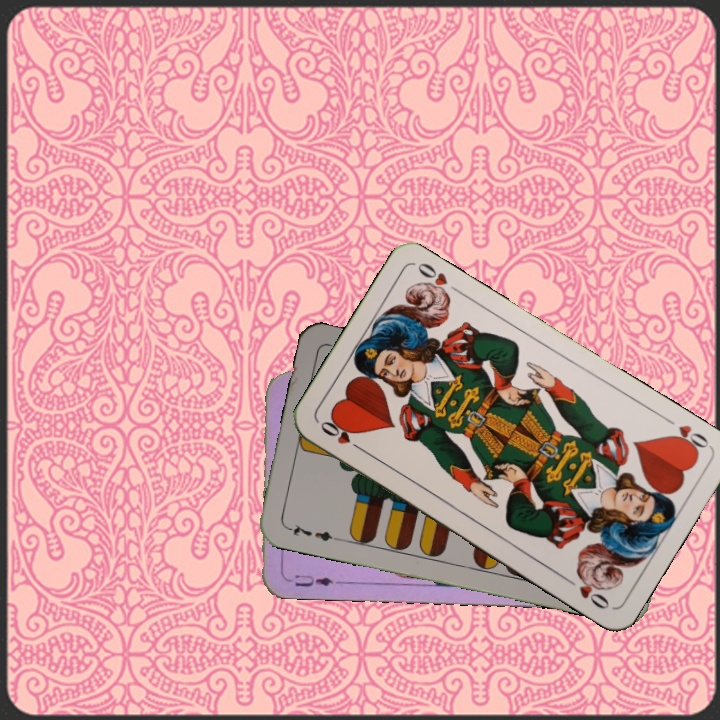E7: (282, 519, 341, 544)
EU: (290, 570, 342, 590)
HO: (659, 412, 712, 457), (316, 416, 368, 455)
